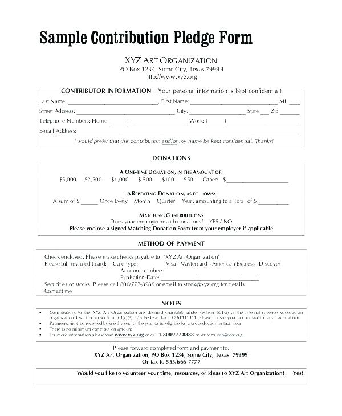textline: (66, 95, 160, 108), (75, 105, 177, 116), (108, 116, 188, 128), (189, 97, 279, 107), (161, 267, 261, 276), (205, 117, 302, 126), (226, 117, 300, 127), (225, 174, 291, 185), (128, 117, 189, 127), (159, 276, 260, 282), (187, 107, 246, 116), (257, 195, 291, 206), (279, 107, 301, 117), (80, 196, 100, 206), (109, 117, 127, 127), (206, 117, 226, 126), (288, 97, 303, 108), (259, 107, 271, 116)
